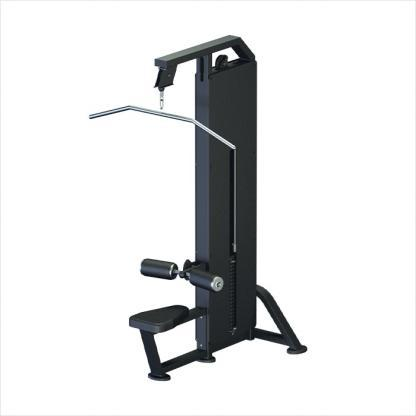Lat Pull Down: (85, 30, 316, 385)
